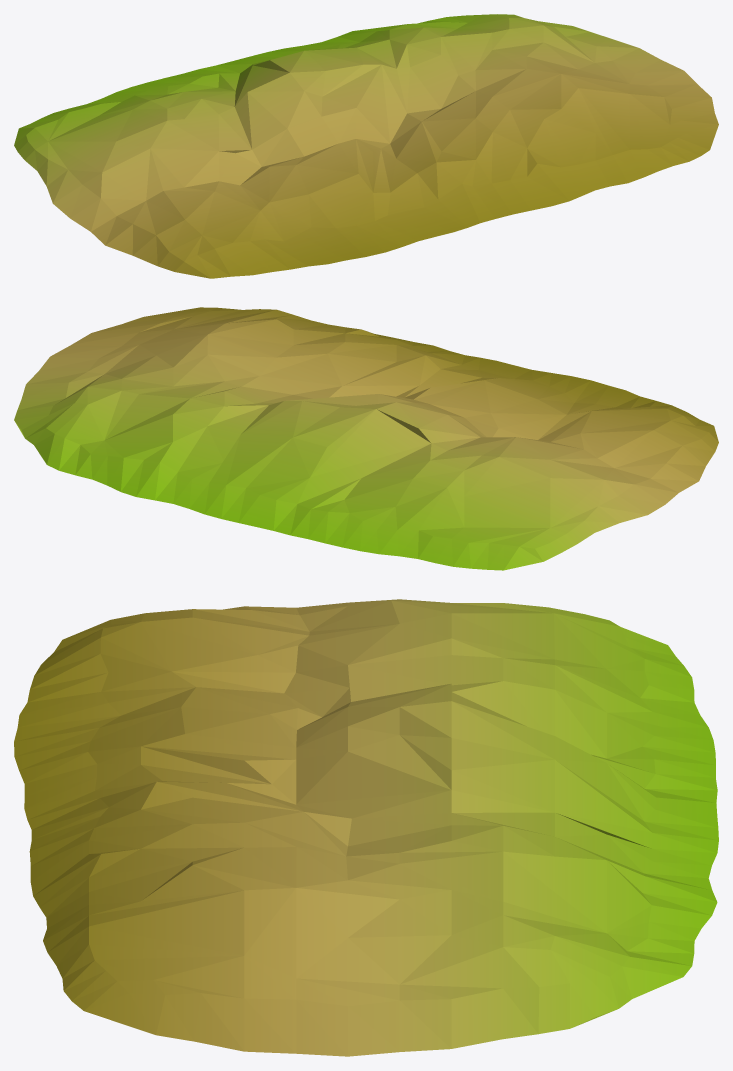
Rendered from Forest_Ground_001.FBX.
3 renders of one model, top to bottom at view 1: azimuth 30°, elevation 25°; view 2: azimuth 150°, elevation 25°; view 3: azimuth 270°, elevation 25°, orthographic. The views are drawn at different scales.
Visible parts, largest first — view 1: Forest_Ground_001; view 2: Forest_Ground_001; view 3: Forest_Ground_001.
Boxes of the visible parts, bbox=[...] form: Forest_Ground_001: bbox=[14, 14, 718, 278]; Forest_Ground_001: bbox=[14, 307, 718, 570]; Forest_Ground_001: bbox=[14, 599, 718, 1056].
Size of the model in its own units: 4002 by 383 by 2645.
Materials: 1 (1 with a texture image).
